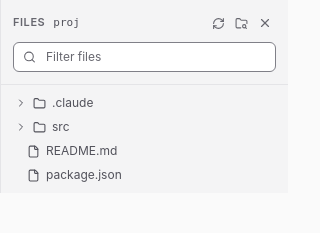
it: FilesPanel — tree › shows a folder's load error inline
Click the button "src" at {"x": 21, "y": 127}, box x1=7 y1=115 x2=282 y2=139
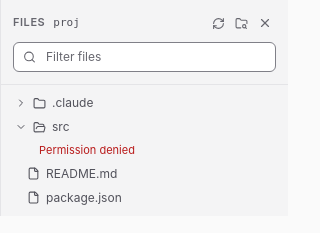
Expected: the list item "README.md" is shown, x1=7 y1=162 x2=282 y2=186
Now the message reads "Permission denied", box x1=39 y1=143 x2=135 y2=157
